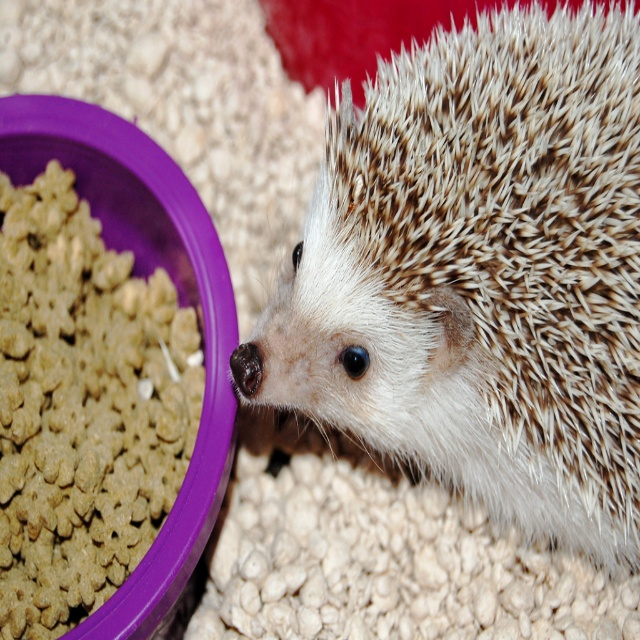Hedgehog: (226, 0, 640, 586)
